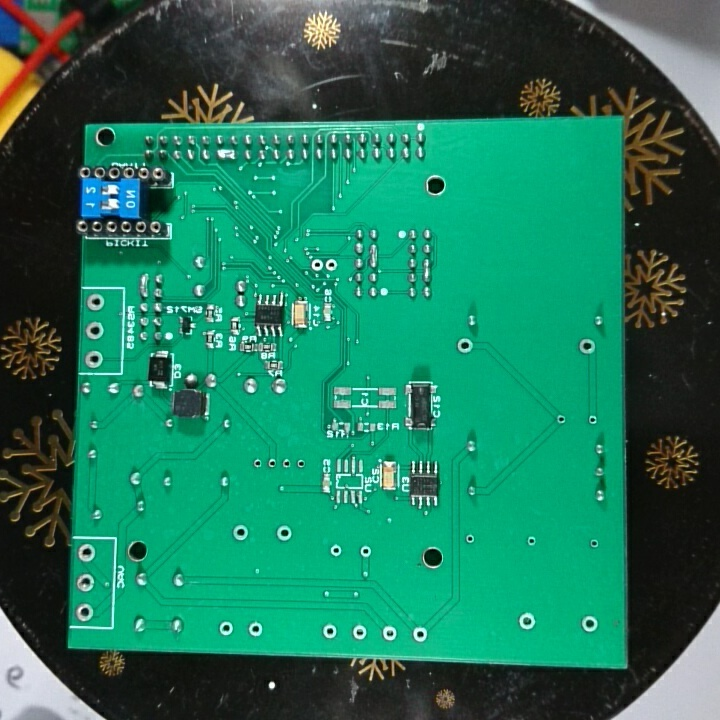F: (574, 335, 599, 358), (82, 349, 105, 372), (74, 601, 97, 624), (578, 613, 601, 636), (83, 292, 108, 313), (76, 541, 98, 564), (74, 572, 96, 595), (229, 523, 251, 546), (85, 318, 105, 343), (517, 610, 537, 635), (407, 624, 429, 646), (273, 524, 295, 546), (349, 621, 370, 643), (454, 335, 476, 356), (379, 623, 399, 645), (321, 621, 339, 642), (247, 621, 265, 640), (217, 619, 234, 638), (327, 542, 344, 561), (524, 531, 539, 552), (357, 544, 374, 562), (585, 534, 602, 552), (462, 529, 477, 549), (324, 255, 339, 275), (279, 455, 294, 473), (309, 256, 324, 274), (294, 455, 308, 474), (264, 455, 278, 473), (554, 412, 568, 429), (585, 413, 600, 427), (251, 457, 265, 471)
P: (136, 269, 151, 300), (420, 257, 437, 284), (366, 242, 381, 270), (214, 146, 237, 162)
